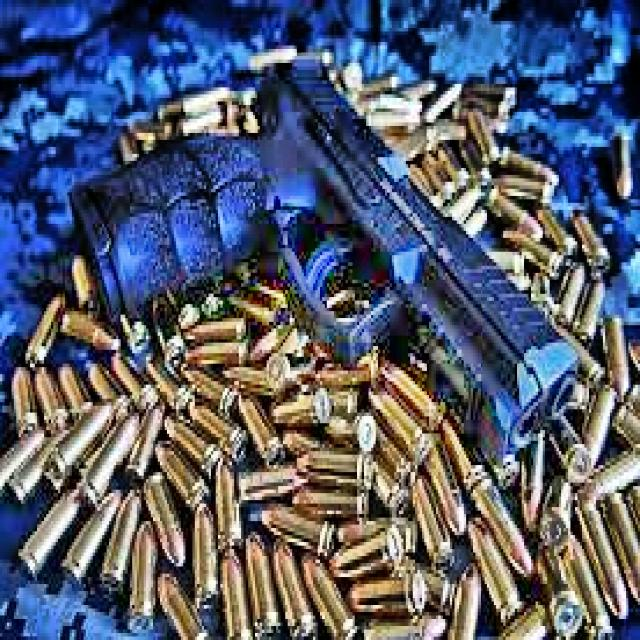HKVP9: (66, 54, 580, 482)
